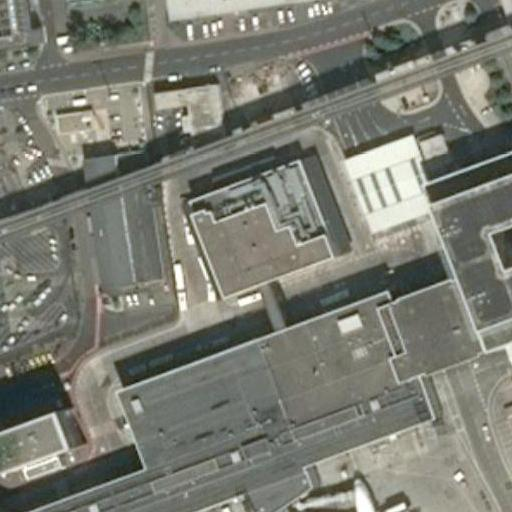Aircraft: (290, 480, 492, 512)
